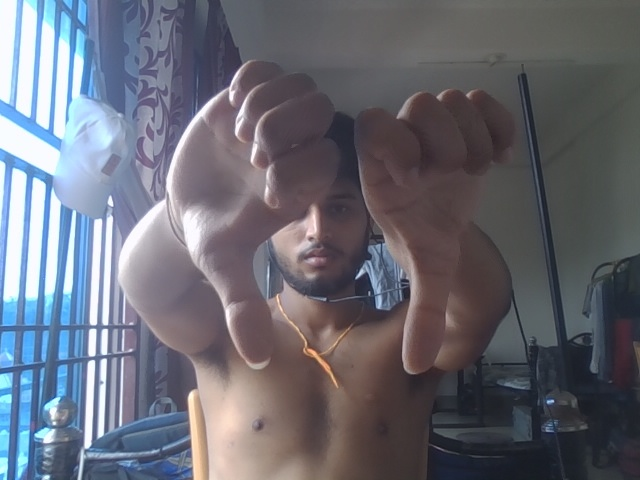Loser: (161, 57, 508, 379)
